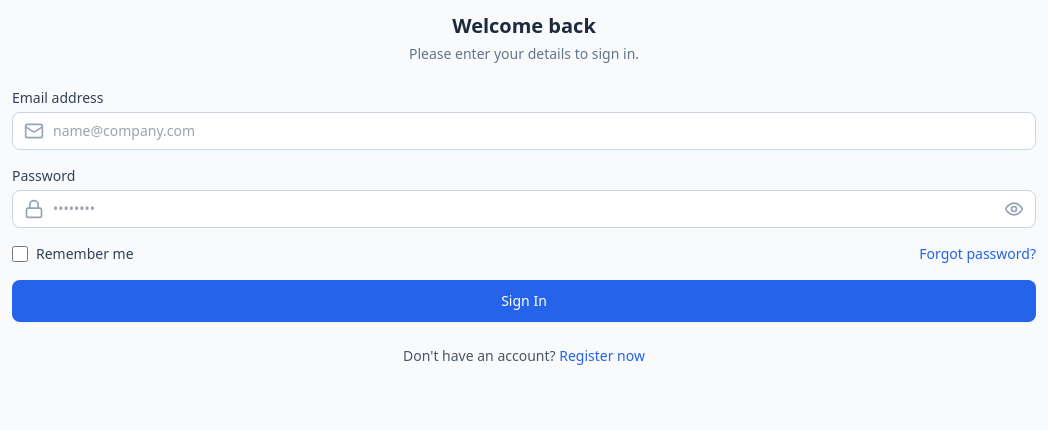
Test case: LoginForm › shows error on invalid email format
Step 1. Type "invalid-email" into the field with placeholder "name@company.com" → x=524, y=131, box [12,112,1036,150]
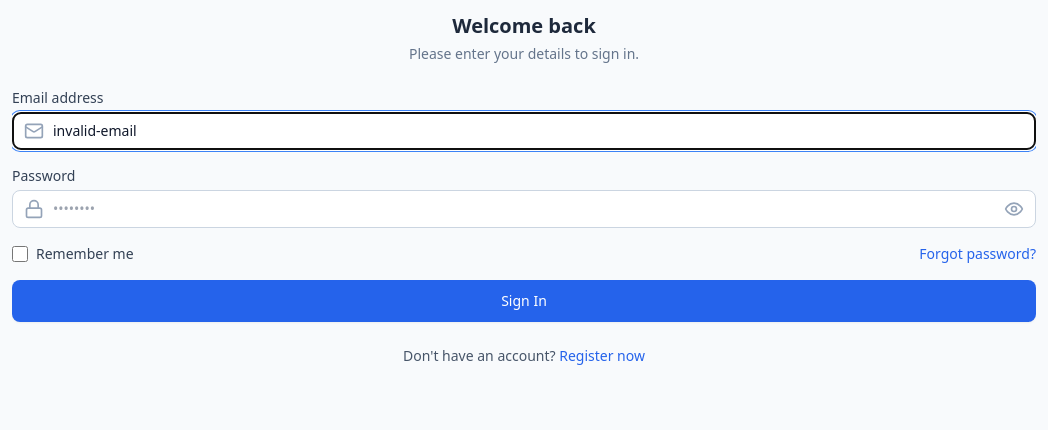
Step 2. Submit the form with placeholder "name@company.com", box [12,88,1036,322]
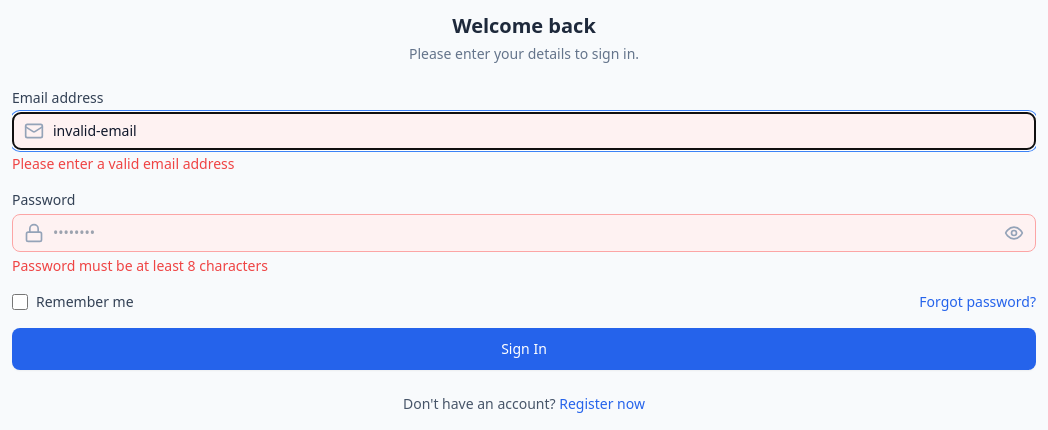
Expected: the text "Please enter a valid email address" is shown, [12,154,234,173]
